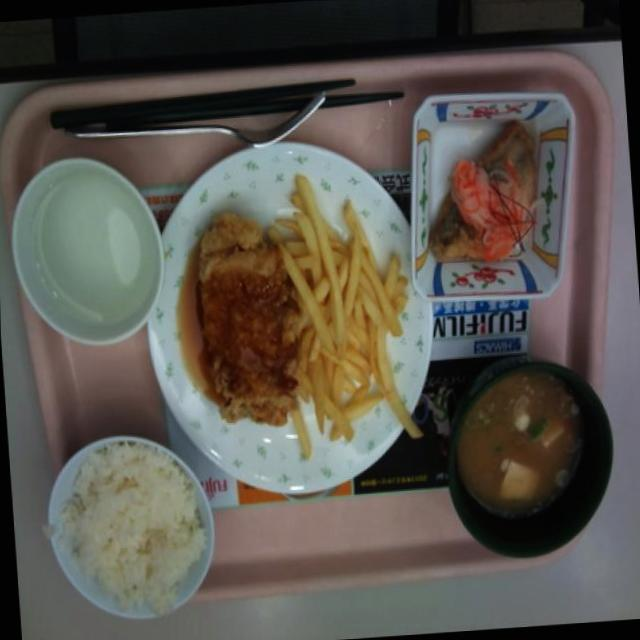French Fries: (278, 188, 412, 430)
Rice: (61, 443, 200, 608)
